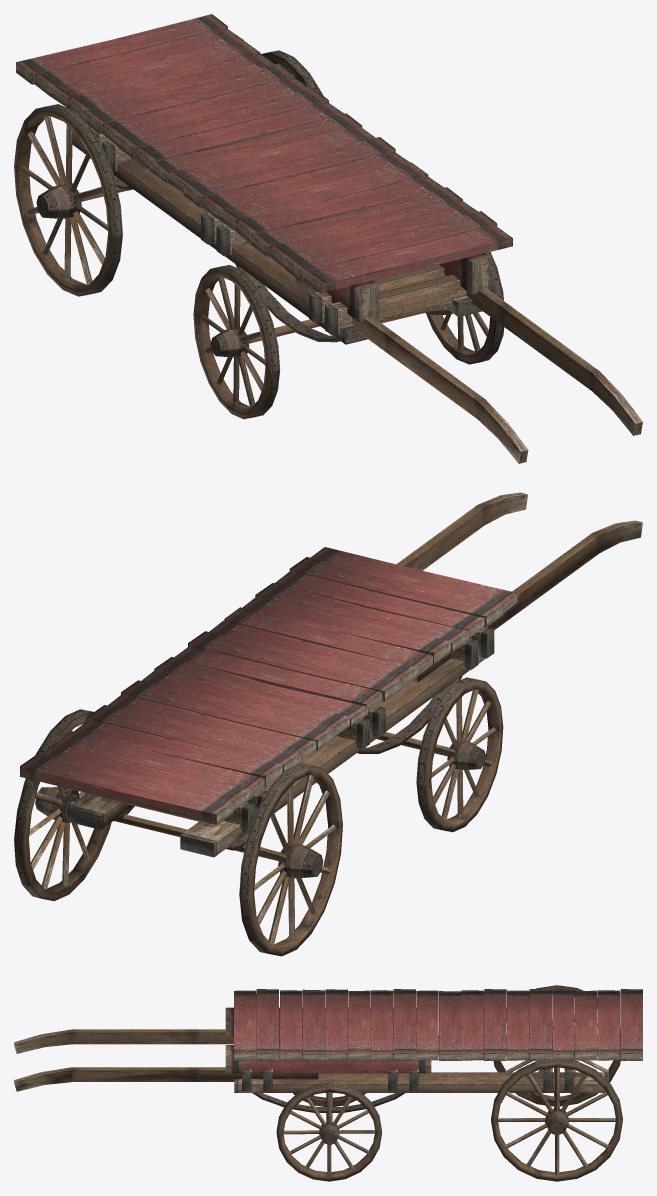
Rendered from Wagon01.FBX.
3 views of the same model, one above another, from view 1: azimuth 30°, elevation 25°; view 2: azimuth 150°, elevation 25°; view 3: azimuth 270°, elevation 25° (orthographic). The views are drawn at different scales.
Visible parts, largest first — view 1: LV_Spechia_LemiForest_DaidangsWagon01_SM_NWCVCT; view 2: LV_Spechia_LemiForest_DaidangsWagon01_SM_NWCVCT; view 3: LV_Spechia_LemiForest_DaidangsWagon01_SM_NWCVCT.
Part boxes in pixels (left/top/right/bottom): LV_Spechia_LemiForest_DaidangsWagon01_SM_NWCVCT: left=14, top=14, right=642, bottom=463; LV_Spechia_LemiForest_DaidangsWagon01_SM_NWCVCT: left=14, top=492, right=642, bottom=956; LV_Spechia_LemiForest_DaidangsWagon01_SM_NWCVCT: left=14, top=985, right=642, bottom=1181.
Bounding box in the file's own units: 131 × 80.95 × 381.
